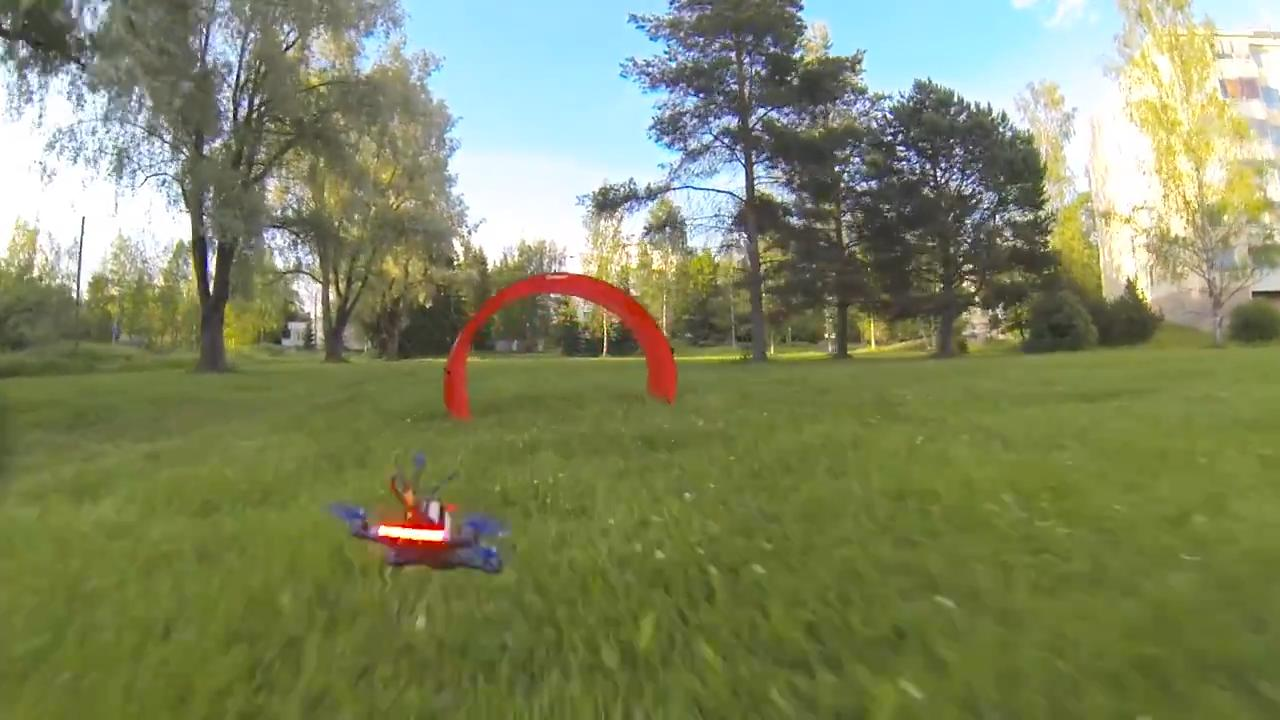gate: (437, 270, 683, 420)
